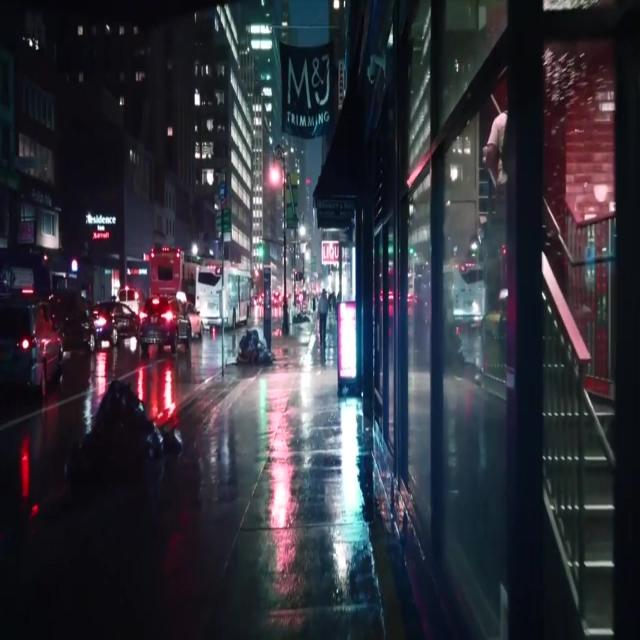Car: (138, 296, 191, 353)
